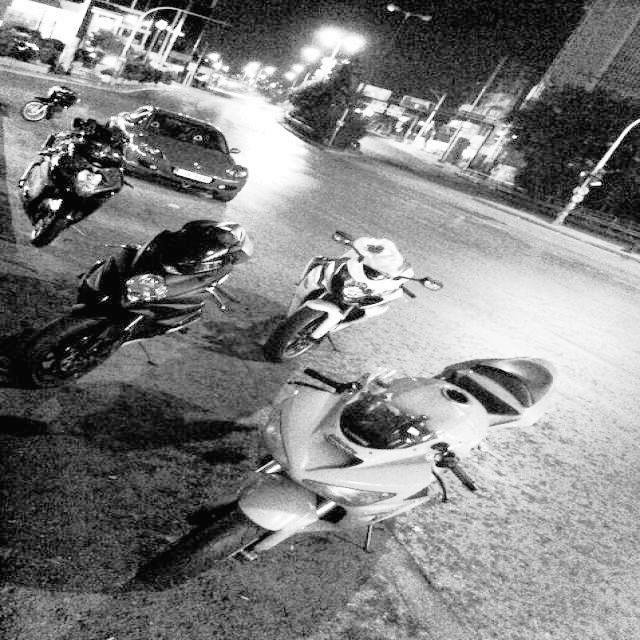Car: (121, 115, 265, 201)
Motorcycle: (66, 333, 594, 630), (0, 212, 291, 406), (254, 226, 464, 369), (0, 122, 138, 249), (12, 75, 98, 126)
